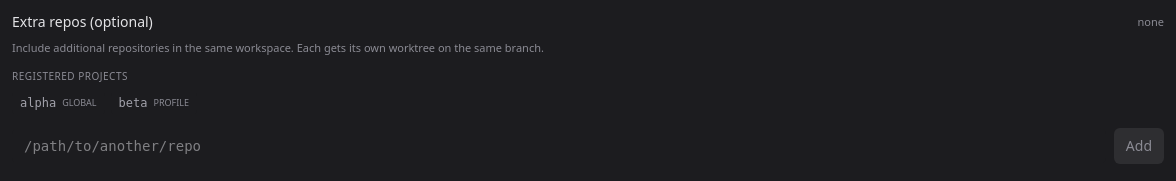
Test case: ExtraReposPicker › Add button is disabled until the free-text input has content
Expected: the button "Add" is disabled, [1114,128,1164,164]
Type "/new/repo" into the field with placeholder "/path/to/another/repo" at (559, 146), box [12,128,1106,164]
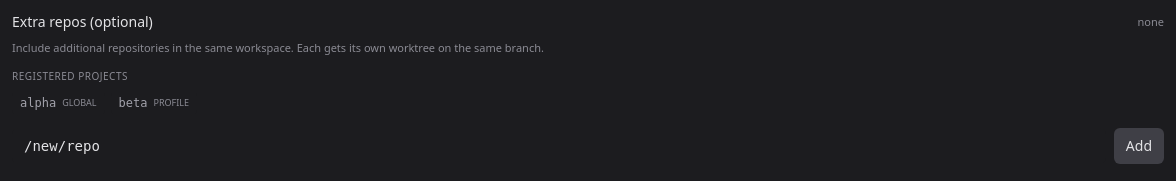
Expected: the button "Add" is enabled, [1114,128,1164,164]
